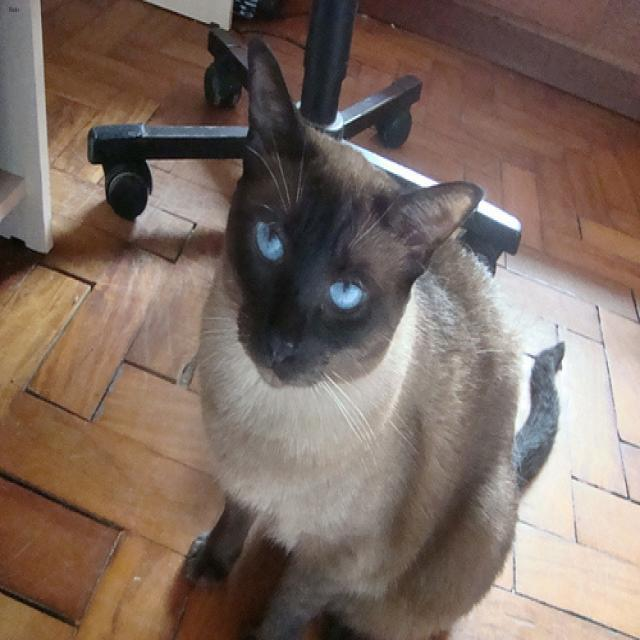Siamese: (227, 32, 482, 390)
